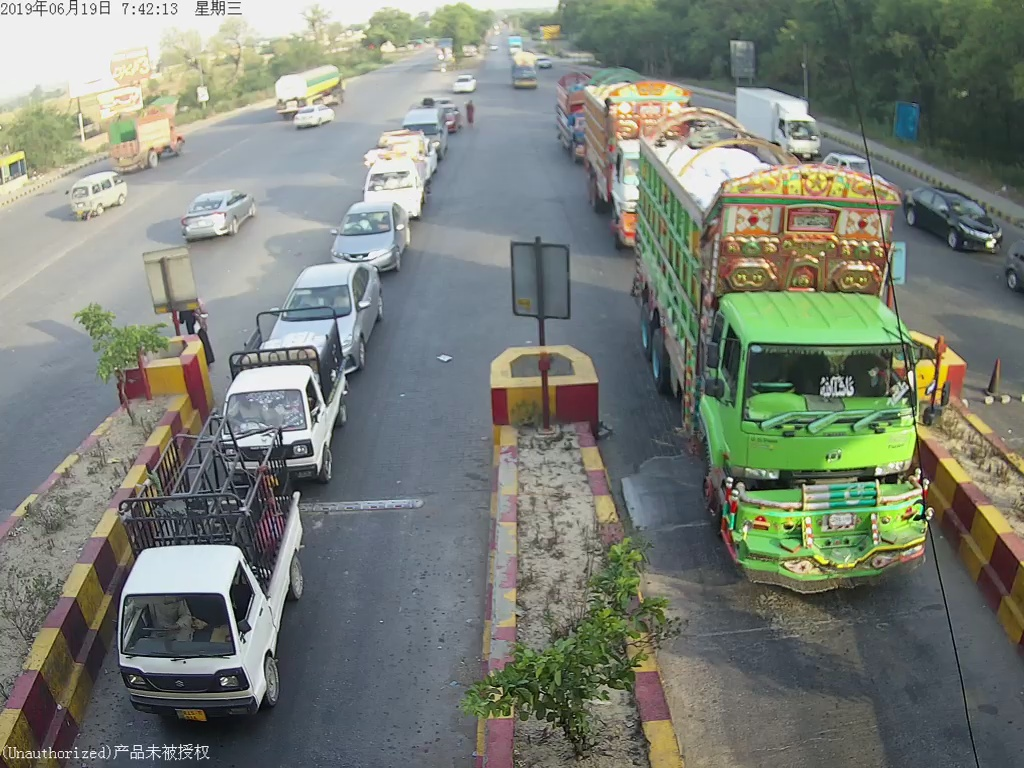Cat-1: (114, 437, 312, 739), (221, 329, 351, 451), (333, 207, 409, 271)
Cat-4: (628, 161, 924, 581)
